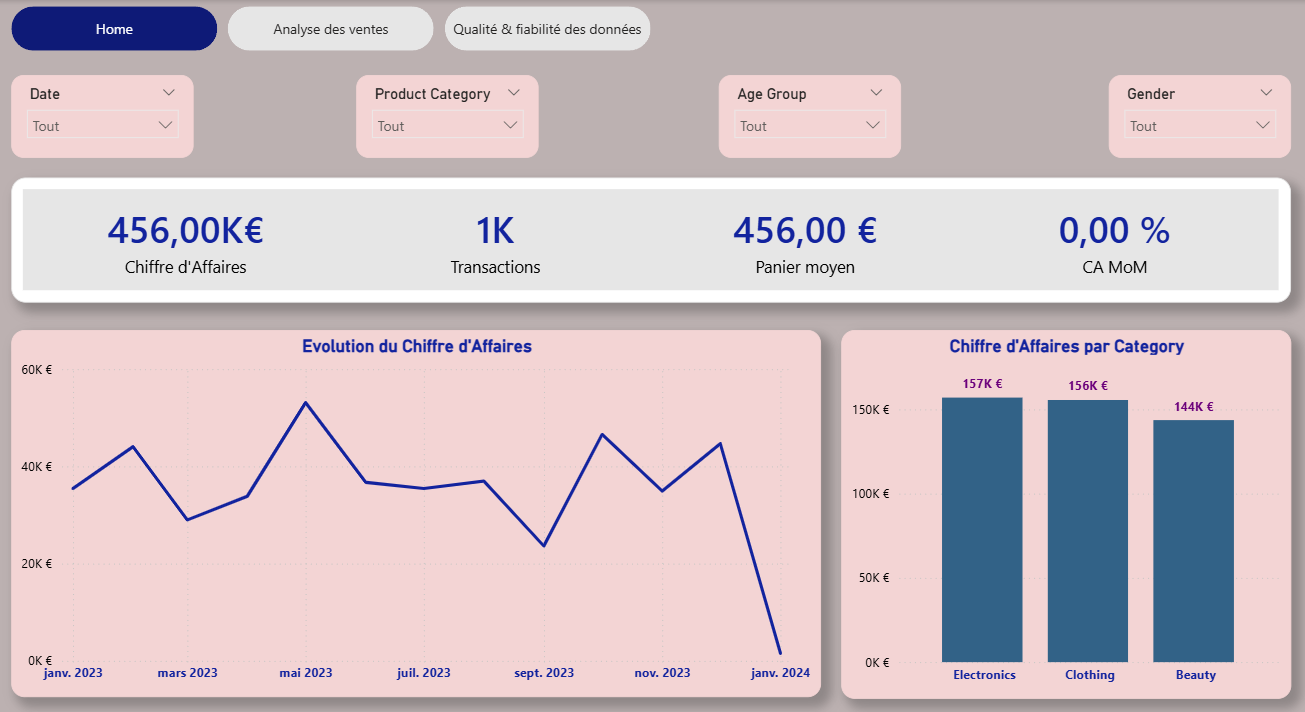

The page's visual inventory and layout, read from the dashboard file:
{"tool":"powerbi","page":{"name":"Home","canvas":[1280,720],"ordinal":0},"visuals":[{"type":"slicer","fields":{"Values":["dim_date.date.Variation.Hiérarchie de dates.Année","dim_date.date.Variation.Hiérarchie de dates.Mois"]},"box":[15.7,72.4,176.1,79.6],"z":0},{"type":"slicer","fields":{"Values":["dim_product.product_category"]},"box":[348.7,72.4,176.1,79.6],"z":1000},{"type":"slicer","fields":{"Values":["dim_customer.age_group"]},"box":[698.5,72.4,176.1,79.6],"z":2000},{"type":"slicer","fields":{"Values":["dim_customer.gender"]},"box":[1074.9,72.4,176.1,79.6],"z":3000},{"type":"cardVisual","fields":{"Data":["_Measures.CA","_Measures.Transactions","_Measures.Panier moyen","_Measures.Variation en % de CA d'un mois à l'autre"]},"box":[15.7,171.3,1235.4,120.6],"z":4000},{"type":"lineChart","title":"Evolution du Chiffre d''Affaires","fields":{"Category":["dim_date.date.Variation.Hiérarchie de dates.Année","dim_date.date.Variation.Hiérarchie de dates.Mois"],"Y":["_Measures.CA"]},"box":[15.7,318.5,781.8,354.7],"z":5000},{"type":"clusteredColumnChart","title":"Chiffre d''Affaires par Category","fields":{"Y":["_Measures.CA"],"Category":["dim_product.product_category"]},"box":[816.8,318.5,434.3,355.9],"z":6000},{"type":"pageNavigator","box":[16.1,6.3,617.2,43.8],"z":7000}]}

Visuals, with their boxes on the page's 1280x720 design canvas (x1, y1, x2, y2). These are canvas units, not pixel positions in the 1305x712 screenshot, which may show the page scaled, cropped or inside an application window:
slicer - dim_date.date.Variation.Hiérarchie de dates.Année x dim_date.date.Variation.Hiérarchie de dates.Mois: bbox=(16, 72, 192, 152)
slicer - dim_product.product_category: bbox=(349, 72, 525, 152)
slicer - dim_customer.age_group: bbox=(698, 72, 875, 152)
slicer - dim_customer.gender: bbox=(1075, 72, 1251, 152)
cardVisual - _Measures.CA x _Measures.Transactions: bbox=(16, 171, 1251, 292)
"Evolution du Chiffre d''Affaires" lineChart: bbox=(16, 318, 798, 673)
"Chiffre d''Affaires par Category" clusteredColumnChart: bbox=(817, 318, 1251, 674)
pageNavigator: bbox=(16, 6, 633, 50)
